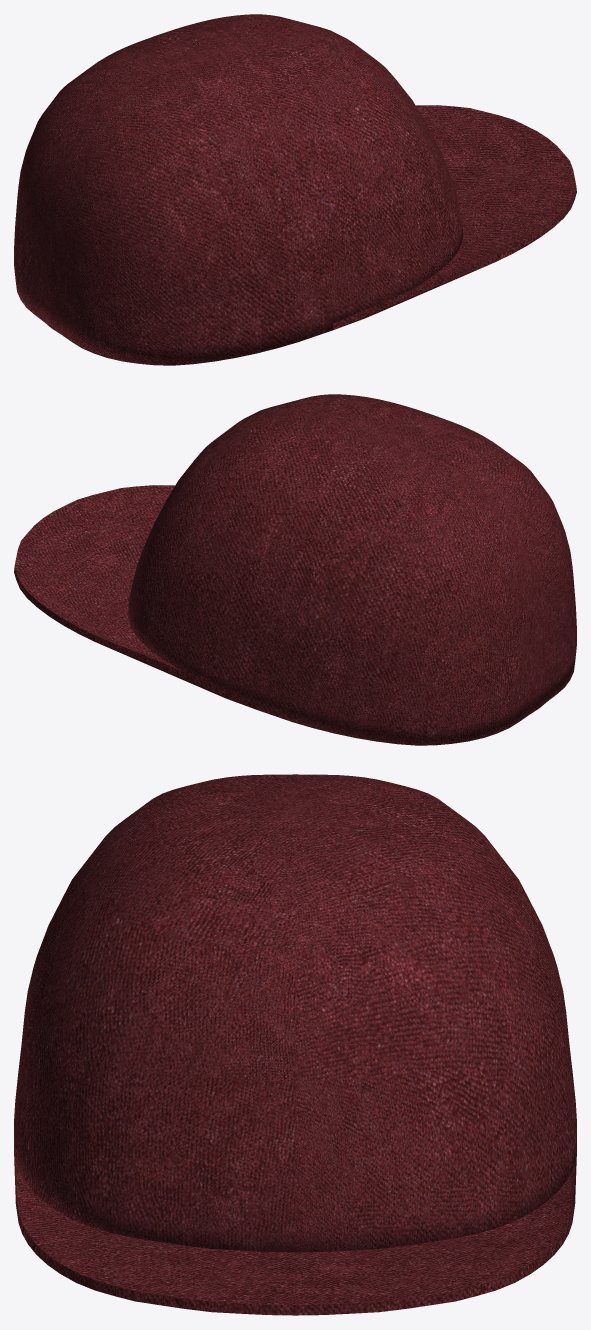
Rendered from hat.fbx.
The picture shows the model from 3 angles, top to bottom: view 1: azimuth 30°, elevation 25°; view 2: azimuth 150°, elevation 25°; view 3: azimuth 270°, elevation 25°; orthographic projection. The views are drawn at different scales.
Visible parts, largest first — view 1: chapeu.002; view 2: chapeu.002; view 3: chapeu.002.
Boxes of the visible parts, x1,y1,x2,y2 form: chapeu.002: (14, 14, 576, 365); chapeu.002: (14, 394, 576, 745); chapeu.002: (14, 774, 576, 1315).
Bounding box in the file's own units: 36.61 × 16.71 × 23.77.
1 material, 1 textured.
